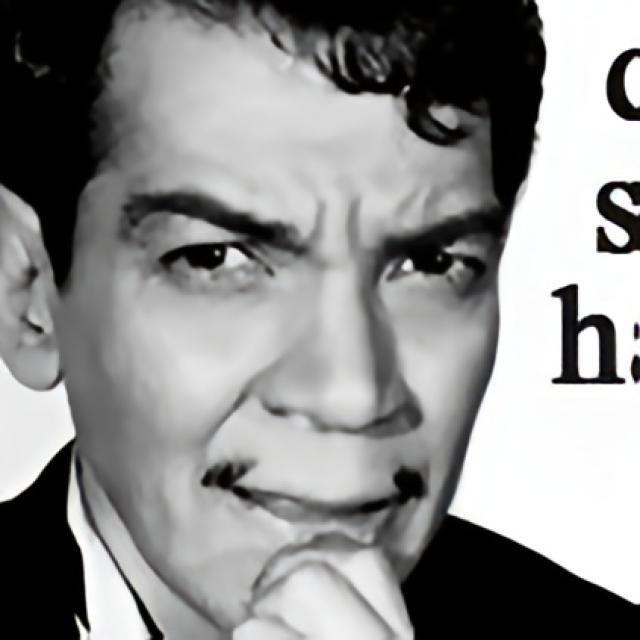anger: (67, 31, 530, 624)
